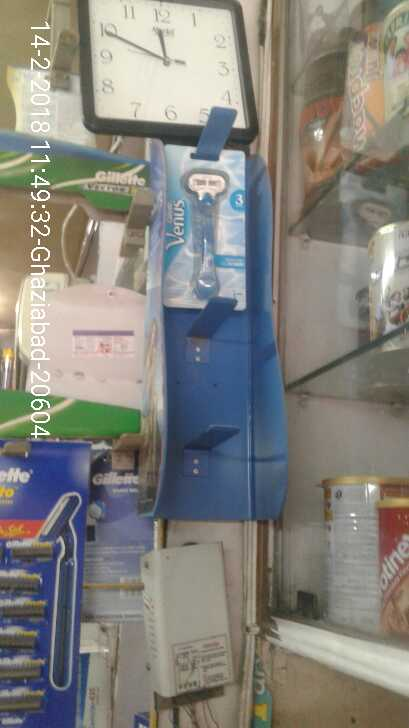venus: (161, 144, 256, 316)
